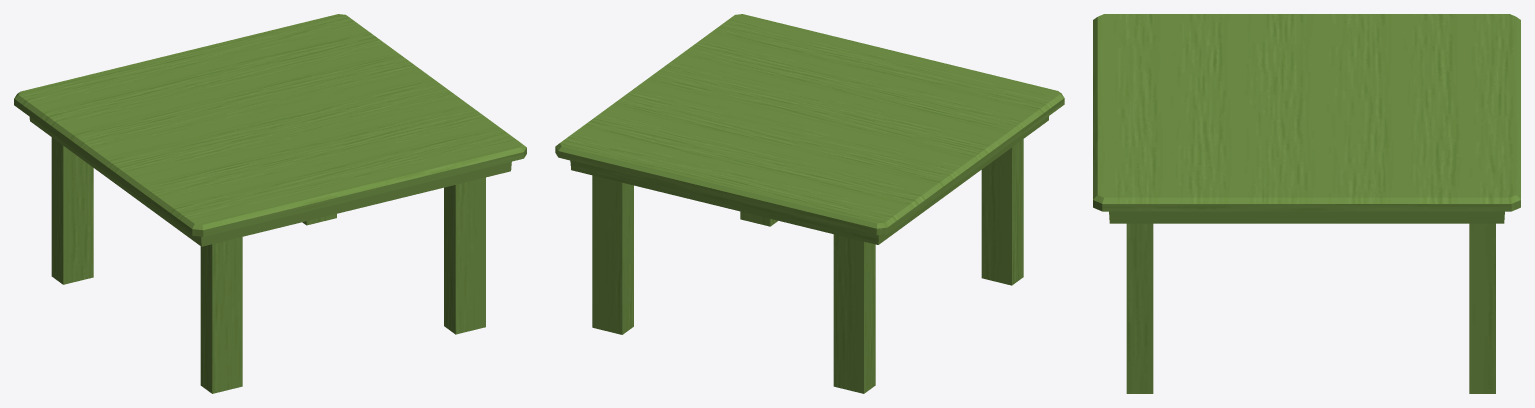
Rendered from Square Table_E.FBX.
3 views of the same model, side by side, from view 1: azimuth 30°, elevation 25°; view 2: azimuth 150°, elevation 25°; view 3: azimuth 270°, elevation 25° (orthographic). The views are drawn at different scales.
Parts seen in each view (by area): view 1: Square Table; view 2: Square Table; view 3: Square Table.
Part boxes in pixels (x1,y1,x2,y2): Square Table: (14,14,526,393); Square Table: (555,14,1064,393); Square Table: (1093,14,1520,393).
Bounding box in the file's own units: 264 × 138 × 254.
